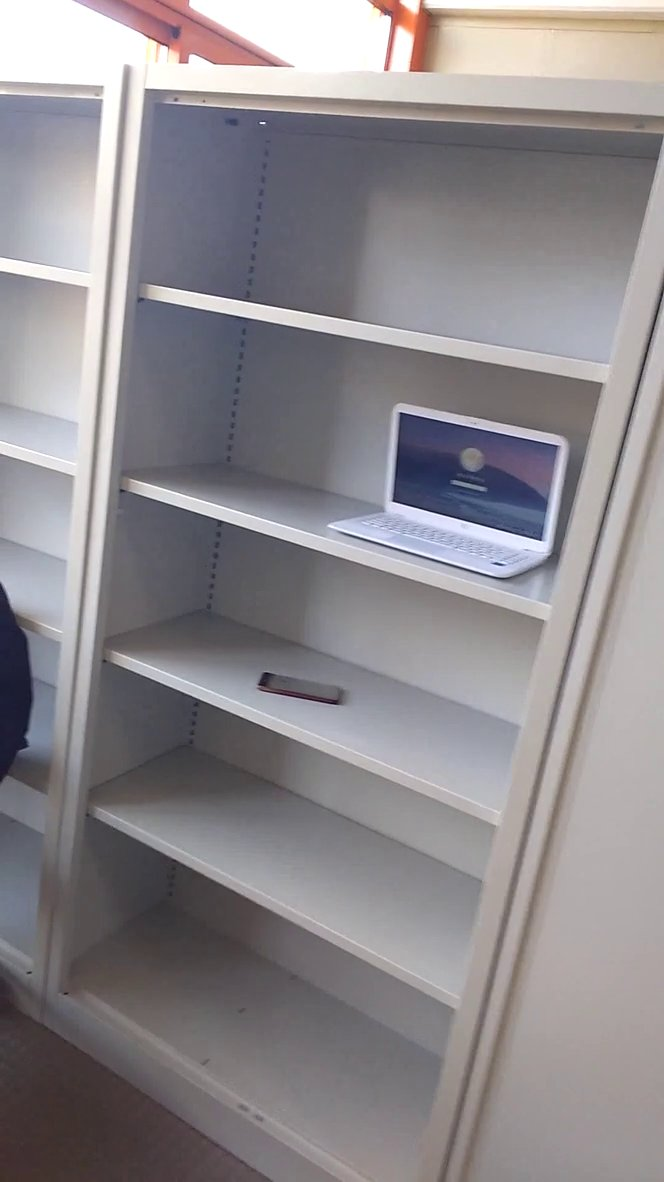laptop: (318, 385, 581, 606)
phone: (251, 662, 351, 711)
